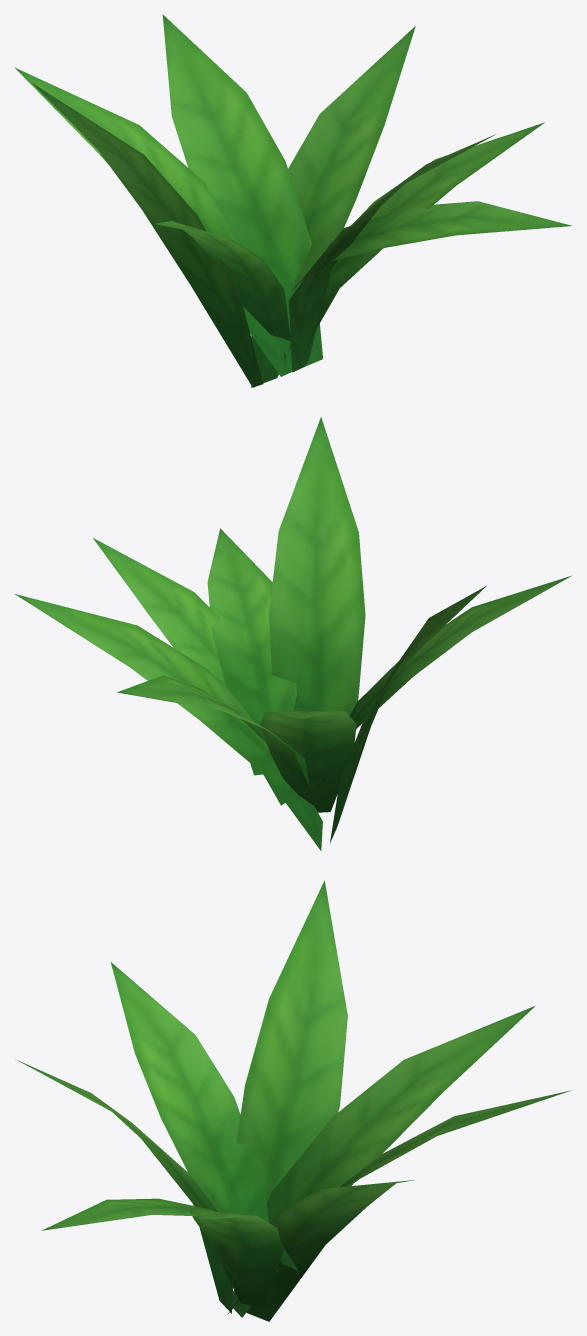
The model's file is Grass_05.FBX.
3 renders of one model, top to bottom at view 1: azimuth 30°, elevation 25°; view 2: azimuth 150°, elevation 25°; view 3: azimuth 270°, elevation 25°, orthographic. The views are drawn at different scales.
Visible parts, largest first — view 1: Object302; view 2: Object302; view 3: Object302.
Boxes of the visible parts, left/top/right/bottom form: Object302: left=14, top=14, right=571, bottom=387; Object302: left=15, top=417, right=571, bottom=850; Object302: left=15, top=880, right=571, bottom=1321.
Bounding box in the file's own units: 325 × 227 × 334.
